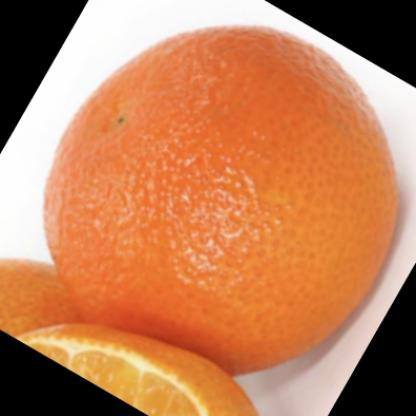fresh: (42, 23, 401, 371)
